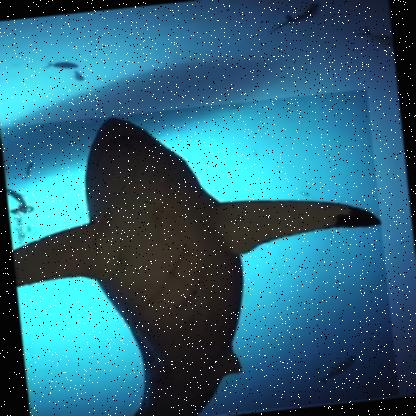white-shark: (0, 89, 399, 415)
